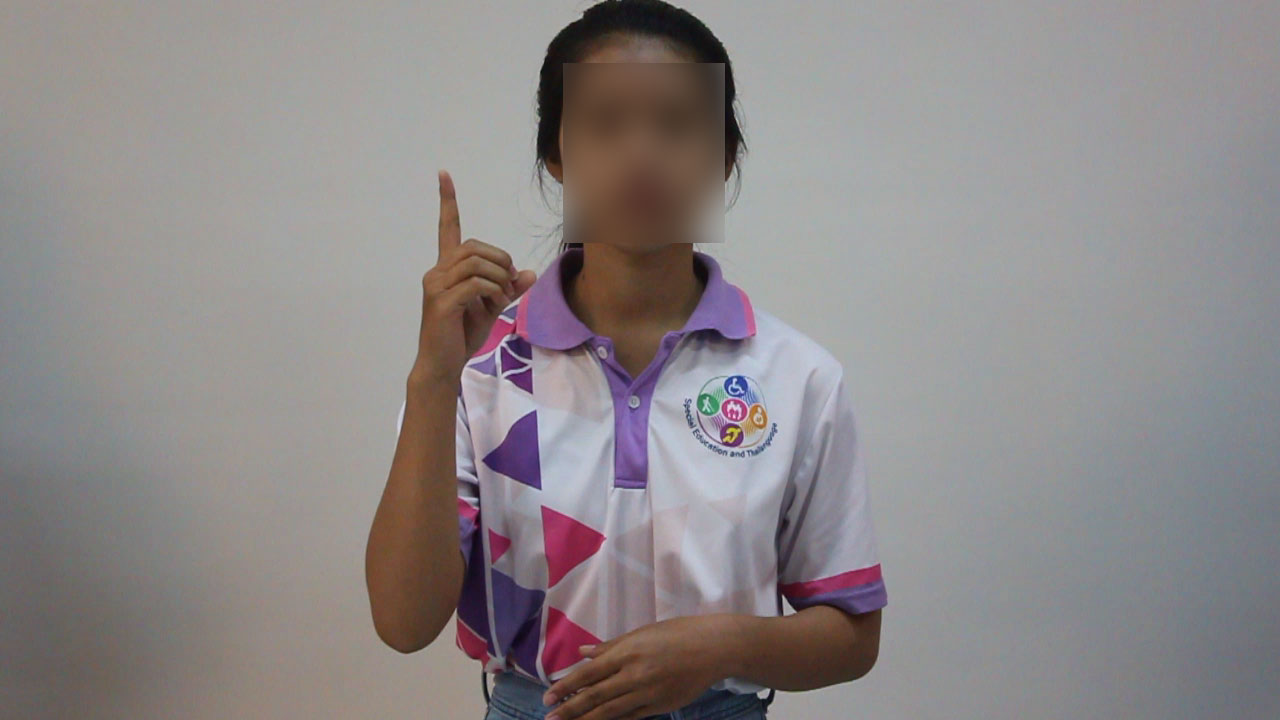dor: (406, 161, 547, 372)
